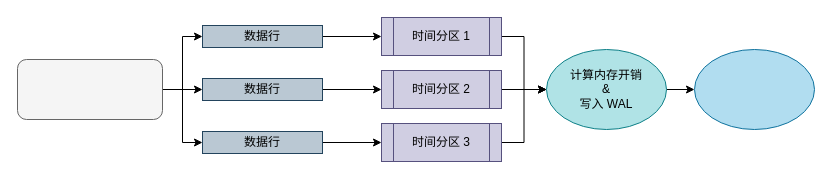
This 832x179 diagram has some shape labels left out. The box of each missing label's shape, as (x1, y1, x2, y2) in pixels:
FragmentInstance: (16, 58, 162, 120)
写入内存表: (694, 48, 814, 130)
